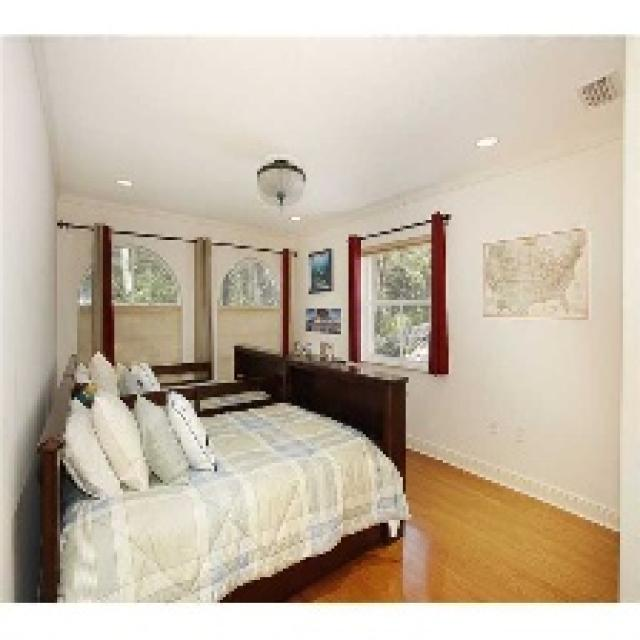Bed: (34, 351, 409, 600)
